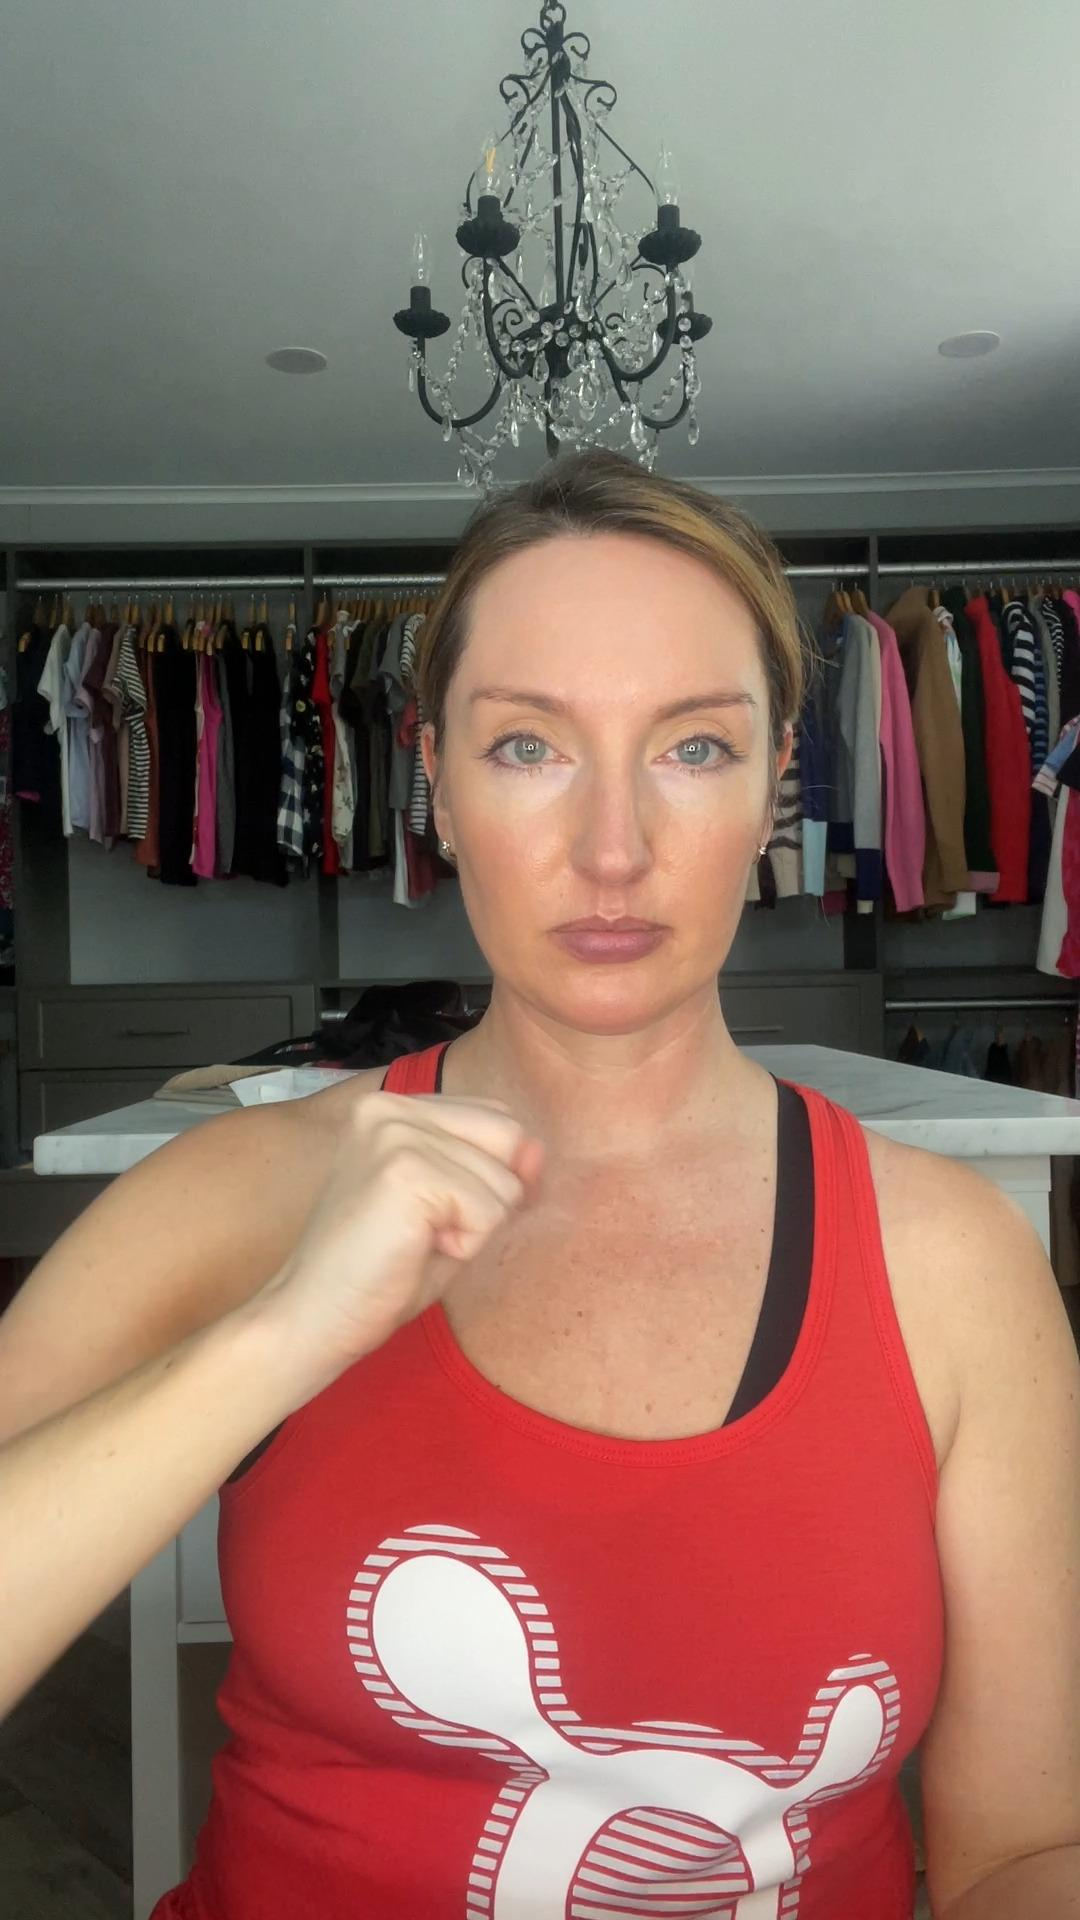Rock: (266, 1084, 546, 1361)
